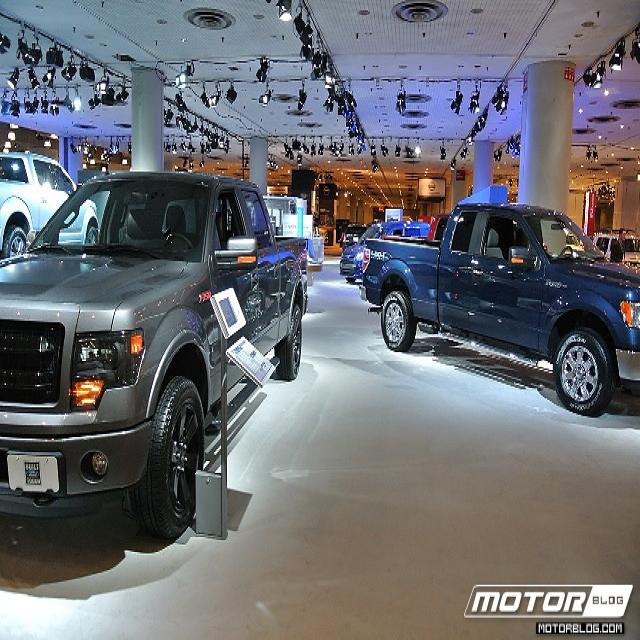Vehicle: (0, 169, 316, 546), (359, 192, 640, 415), (0, 152, 79, 255), (338, 217, 408, 280), (594, 226, 640, 268), (342, 224, 368, 252)
